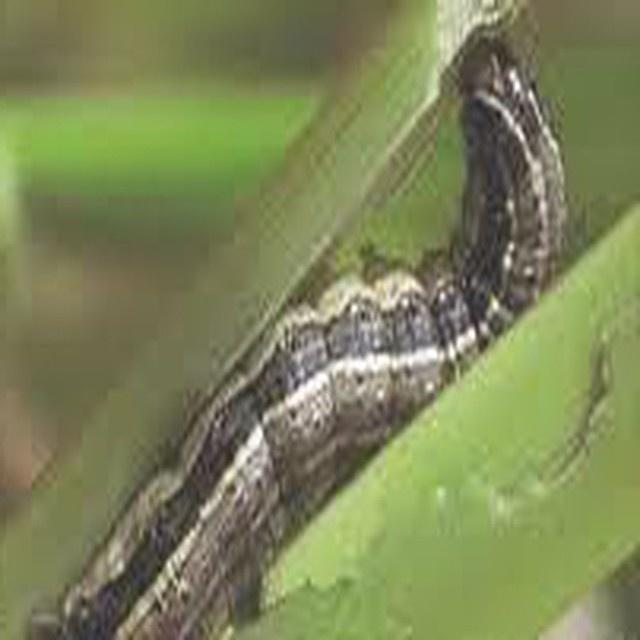gusano_cogollero: (65, 35, 568, 627)
